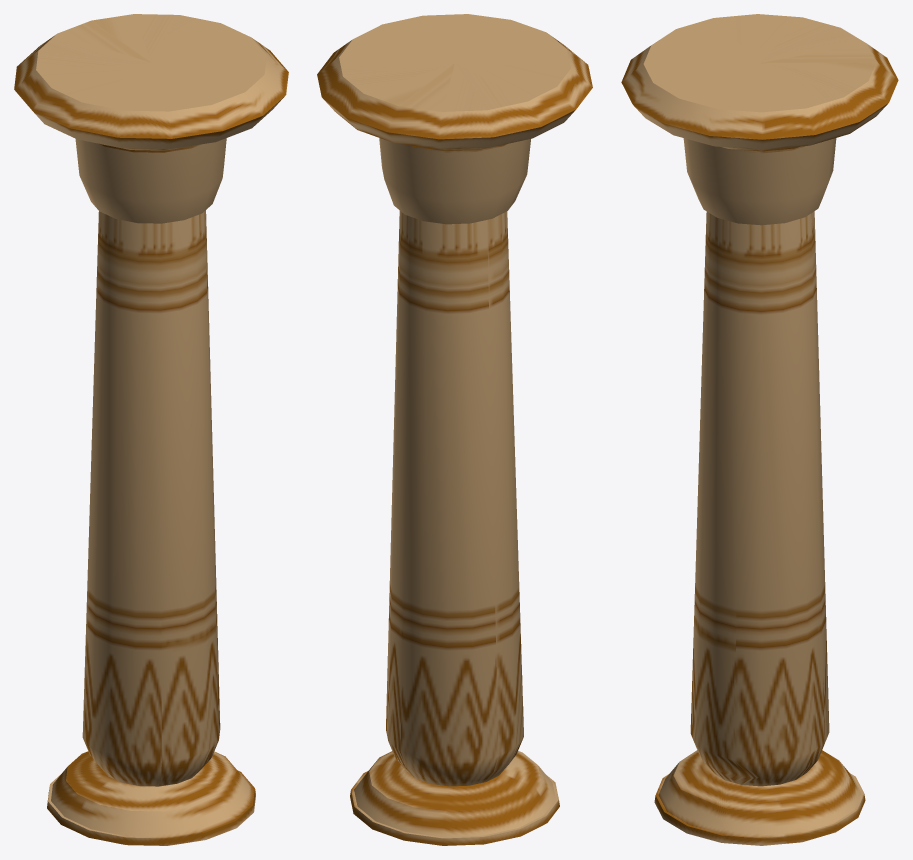
The model's file is pilastra.fbx.
3 renders of one model, left to right at view 1: azimuth 30°, elevation 25°; view 2: azimuth 150°, elevation 25°; view 3: azimuth 270°, elevation 25°, orthographic.
Visible parts, largest first — view 1: pilastra; view 2: pilastra; view 3: pilastra.
Part boxes in pixels (<box>): pilastra: <box>14,14,288,845</box>; pilastra: <box>317,14,592,845</box>; pilastra: <box>621,14,898,845</box>.
Bounding box in the file's own units: 604 × 1776 × 604.
